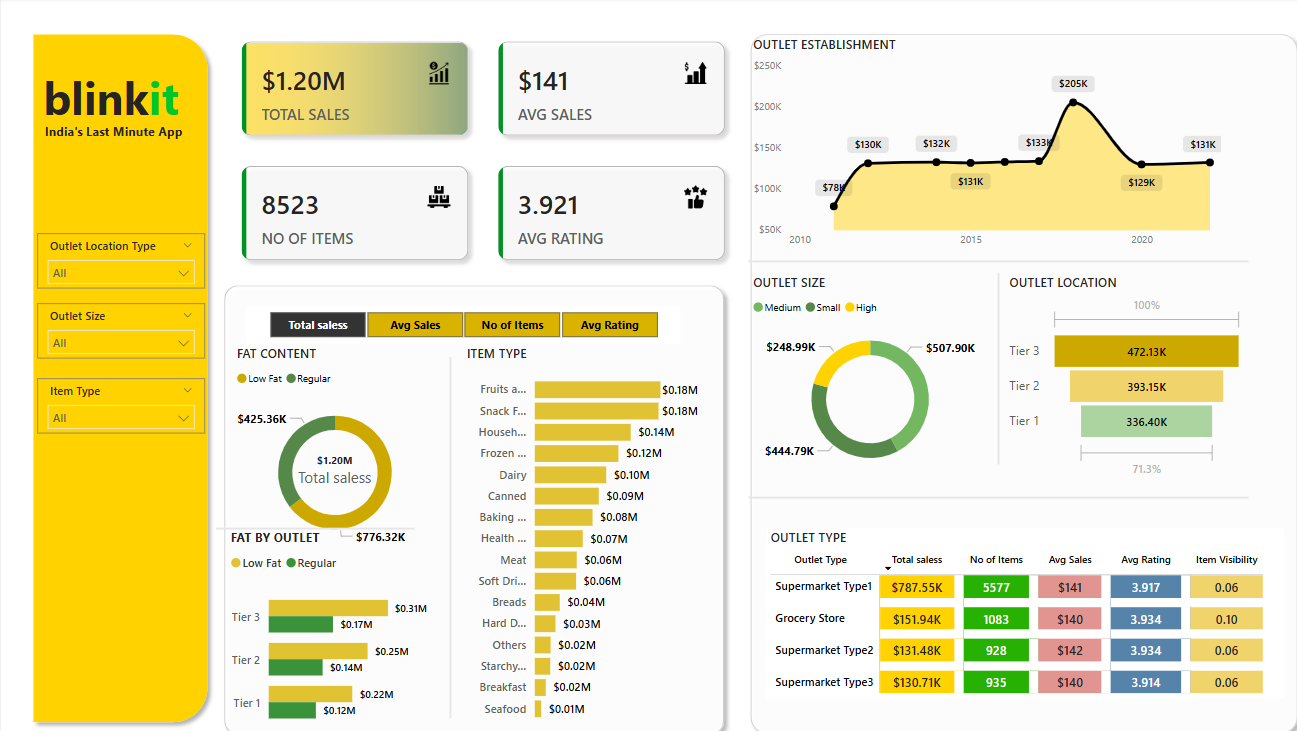

The page's visual inventory and layout, read from the dashboard file:
{"tool":"powerbi","page":{"name":"Page 1","canvas":[1400,800],"ordinal":0},"visuals":[{"type":"shape","box":[25.5,30.8,205.1,756],"z":0},{"type":"textbox","box":[40.5,69,175.6,76.5],"z":1000},{"type":"textbox","box":[25.5,130.6,190.6,30],"z":2000},{"type":"shape","box":[231.1,300.2,553.8,499.8],"z":3000},{"type":"donutChart","title":"FAT CONTENT","fields":{"Y":["BlinkIT Grocery Data.Total saless","BlinkIT Grocery Data.Total saless"],"Category":["BlinkIT Grocery Data.Item Fat Content"]},"box":[247.6,372.2,220.6,229.6],"z":4000},{"type":"slicer","fields":{"Values":["Metrics.Metrics"]},"box":[262.7,331.7,465.3,40.5],"z":5000},{"type":"cardVisual","fields":{"Data":["BlinkIT Grocery Data.Total saless"]},"box":[300.2,472.8,115.6,57],"z":6000},{"type":"clusteredBarChart","title":"FAT BY OUTLET","fields":{"Y":["BlinkIT Grocery Data.Total saless"],"Category":["BlinkIT Grocery Data.Outlet Location Type"],"Series":["BlinkIT Grocery Data.Item Fat Content"]},"box":[241.6,570.3,220.6,229.6],"z":7000},{"type":"shape","box":[231.1,559.8,213.1,19.5],"z":8000},{"type":"shape","box":[469.8,385.7,25.5,387.2],"z":9000},{"type":"barChart","title":"ITEM TYPE","fields":{"Y":["BlinkIT Grocery Data.Total saless"],"Category":["BlinkIT Grocery Data.Item Type"]},"box":[495.3,372.2,258.1,414.2],"z":10000},{"type":"shape","box":[794.9,30.8,604.6,768.1],"z":11000},{"type":"lineChart","title":"OUTLET ESTABLISHMENT","fields":{"Y":["BlinkIT Grocery Data.Total saless"],"Category":["BlinkIT Grocery Data.Outlet Establishment Year"]},"box":[801.6,41.6,512.1,235.9],"z":12000},{"type":"shape","box":[801.6,266.8,536.2,33.5],"z":13000},{"type":"donutChart","title":"OUTLET SIZE","fields":{"Y":["BlinkIT Grocery Data.Total saless"],"Category":["BlinkIT Grocery Data.Outlet Size"]},"box":[801.6,296.2,261.4,225.2],"z":14000},{"type":"shape","box":[1063,296.2,13.4,205.1],"z":15000},{"type":"funnel","title":"OUTLET LOCATION","fields":{"Category":["BlinkIT Grocery Data.Outlet Location Type"],"Y":["Sum(BlinkIT Grocery Data.Sales)"]},"box":[1076.4,296.2,261,225],"z":16000},{"type":"shape","box":[801.6,521.5,536.2,30.8],"z":17000},{"type":"pivotTable","title":"OUTLET TYPE","fields":{"Values":["BlinkIT Grocery Data.Total saless","BlinkIT Grocery Data.No of Items","BlinkIT Grocery Data.Avg Sales","BlinkIT Grocery Data.Avg Rating","Avg(BlinkIT Grocery Data.Item Visibility)"],"Rows":["BlinkIT Grocery Data.Outlet Type"]},"box":[820.4,569.7,555,182.3],"z":18000},{"type":"cardVisual","fields":{"Data":["BlinkIT Grocery Data.Total saless","BlinkIT Grocery Data.Avg Sales","BlinkIT Grocery Data.No of Items","BlinkIT Grocery Data.Avg Rating"]},"box":[241.3,30.8,553.6,269.4],"z":19000},{"type":"slicer","fields":{"Values":["BlinkIT Grocery Data.Outlet Location Type"]},"box":[38.9,253.4,179.6,59],"z":20000},{"type":"slicer","fields":{"Values":["BlinkIT Grocery Data.Outlet Size"]},"box":[38.9,328.4,179.6,59],"z":21000},{"type":"slicer","fields":{"Values":["BlinkIT Grocery Data.Item Type"]},"box":[38.9,408.8,179.6,59],"z":22000}]}

Visuals, with their boxes in screenshot pixels (x1, y1, x2, y2), scaled from the page's 1400x800 canvas onto the 1297x731 screenshot:
shape: bbox=[24, 28, 214, 719]
textbox: bbox=[38, 63, 200, 133]
textbox: bbox=[24, 119, 200, 147]
shape: bbox=[214, 274, 727, 730]
"FAT CONTENT" donutChart: bbox=[229, 340, 434, 550]
slicer - Metrics.Metrics: bbox=[243, 303, 674, 340]
cardVisual - BlinkIT Grocery Data.Total saless: bbox=[278, 432, 385, 484]
"FAT BY OUTLET" clusteredBarChart: bbox=[224, 521, 428, 730]
shape: bbox=[214, 512, 412, 529]
shape: bbox=[435, 352, 459, 706]
"ITEM TYPE" barChart: bbox=[459, 340, 698, 719]
shape: bbox=[736, 28, 1296, 730]
"OUTLET ESTABLISHMENT" lineChart: bbox=[743, 38, 1217, 254]
shape: bbox=[743, 244, 1239, 274]
"OUTLET SIZE" donutChart: bbox=[743, 271, 985, 476]
shape: bbox=[985, 271, 997, 458]
"OUTLET LOCATION" funnel: bbox=[997, 271, 1239, 476]
shape: bbox=[743, 477, 1239, 505]
"OUTLET TYPE" pivotTable: bbox=[760, 521, 1274, 687]
cardVisual - BlinkIT Grocery Data.Total saless x BlinkIT Grocery Data.Avg Sales: bbox=[224, 28, 736, 274]
slicer - BlinkIT Grocery Data.Outlet Location Type: bbox=[36, 232, 202, 285]
slicer - BlinkIT Grocery Data.Outlet Size: bbox=[36, 300, 202, 354]
slicer - BlinkIT Grocery Data.Item Type: bbox=[36, 374, 202, 427]
